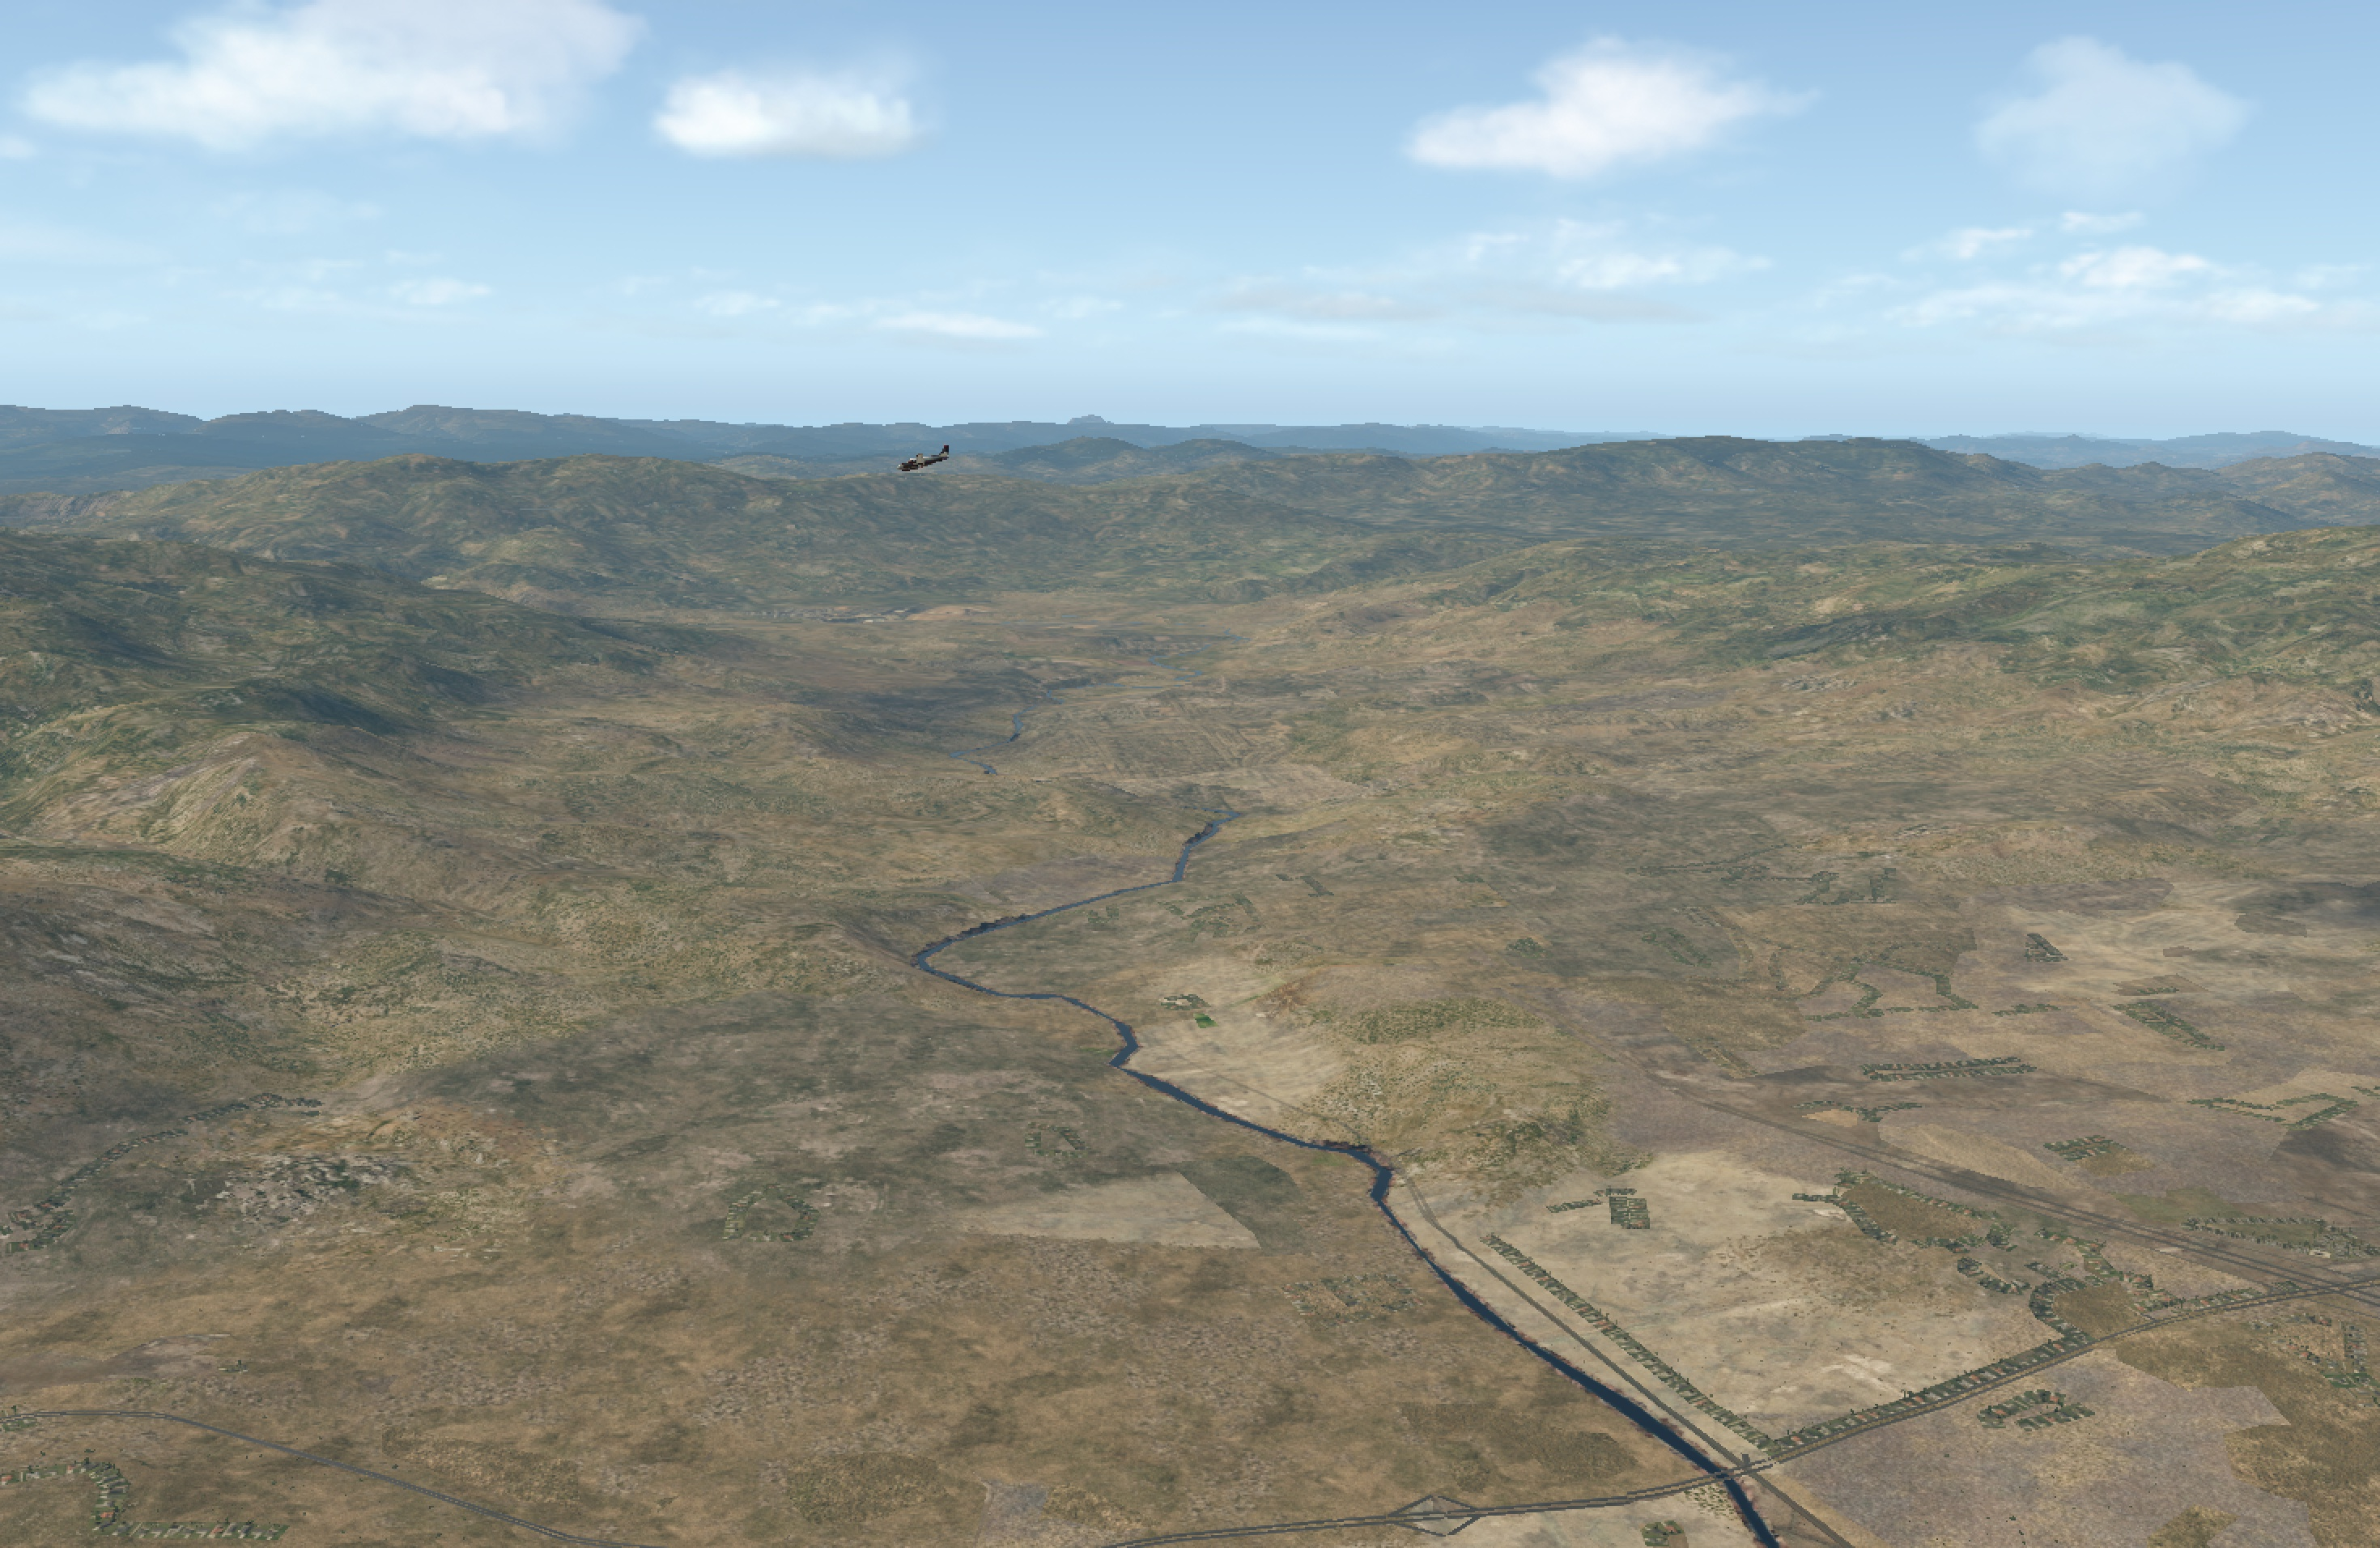aircraft: (874, 451, 956, 482)
